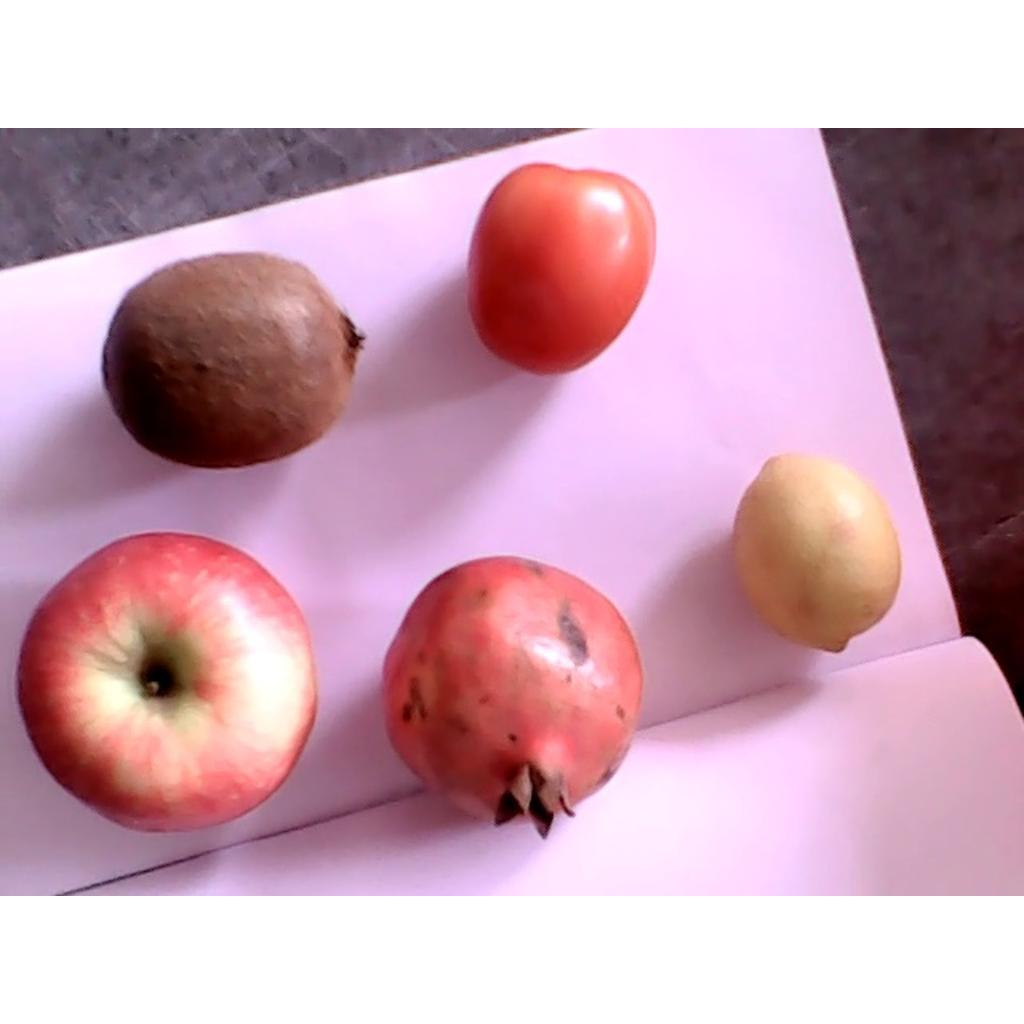apple: (14, 533, 317, 833)
kiwi: (101, 250, 368, 469)
lemon: (734, 451, 902, 653)
pomegranate: (383, 558, 642, 838)
tomato: (466, 163, 657, 376)
